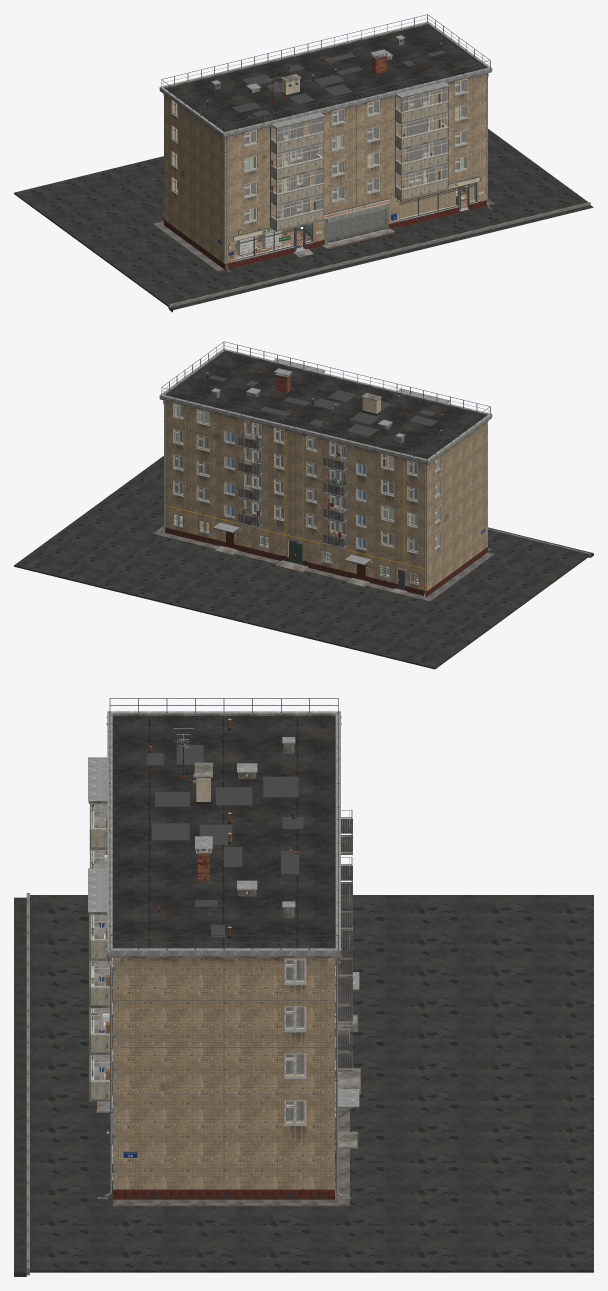
Rendered from pharmacy_house.glb.
The picture shows the model from 3 angles, top to bottom: view 1: azimuth 30°, elevation 25°; view 2: azimuth 150°, elevation 25°; view 3: azimuth 270°, elevation 25°; orthographic projection. The views are drawn at different scales.
Parts seen in each view (by area): view 1: Street_Sidewalk_Courtyard, Wall_Exterior_Front, Slabs_Floors_Roof, Wall_Exterior_Left, Roof_Curb_Chimneys_Vents, Store_Shutter_Entrance_Sign, Roof_Railing, Roof_Repairs_Debris, Loggia_S1_F5_Structure, Loggia_S2_F5_Structure, Salon_Exterior_Curtains_Sign, Loggia_S1_F4_Structure (+32 smaller); view 2: Street_Sidewalk_Courtyard, Wall_Exterior_Back, Slabs_Floors_Roof, Wall_Exterior_Left, Roof_Curb_Chimneys_Vents, Facade_Back_Decals, Roof_Railing, Roof_Repairs_Debris, Foundation, Windows_Back_F5_Frames, Windows_Back_F3_Frames, Windows_Back_F2_Frames (+19 smaller); view 3: Street_Sidewalk_Courtyard, Wall_Exterior_Right, Slabs_Floors_Roof, Roof_Curb_Chimneys_Vents, Roof_Repairs_Debris, Facade_Right_Decals, Foundation, Roof_Railing, Wall_Exterior_Back, Wall_Exterior_Front, Loggia_S1_F5_Structure, Loggia_S2_F5_Structure (+6 smaller).
Part boxes in pixels (left/top/right/bottom): Street_Sidewalk_Courtyard: left=14, top=129, right=593, bottom=312; Wall_Exterior_Front: left=222, top=74, right=487, bottom=269; Slabs_Floors_Roof: left=159, top=24, right=491, bottom=137; Wall_Exterior_Left: left=166, top=96, right=222, bottom=267; Roof_Curb_Chimneys_Vents: left=159, top=21, right=492, bottom=136; Store_Shutter_Entrance_Sign: left=316, top=198, right=396, bottom=249; Roof_Railing: left=161, top=14, right=490, bottom=132; Roof_Repairs_Debris: left=232, top=50, right=445, bottom=117; Loggia_S1_F5_Structure: left=270, top=112, right=324, bottom=154; Loggia_S2_F5_Structure: left=395, top=82, right=449, bottom=124; Salon_Exterior_Curtains_Sign: left=397, top=176, right=483, bottom=218; Loggia_S1_F4_Structure: left=270, top=143, right=323, bottom=180; Street_Sidewalk_Courtyard: left=14, top=456, right=593, bottom=669; Wall_Exterior_Back: left=164, top=400, right=428, bottom=596; Slabs_Floors_Roof: left=159, top=351, right=491, bottom=464; Wall_Exterior_Left: left=429, top=423, right=485, bottom=594; Roof_Curb_Chimneys_Vents: left=159, top=348, right=492, bottom=463; Facade_Back_Decals: left=165, top=401, right=426, bottom=596; Roof_Railing: left=161, top=341, right=490, bottom=460; Roof_Repairs_Debris: left=209, top=370, right=443, bottom=436; Foundation: left=153, top=526, right=494, bottom=601; Windows_Back_F5_Frames: left=172, top=403, right=417, bottom=477; Windows_Back_F3_Frames: left=172, top=455, right=418, bottom=528; Windows_Back_F2_Frames: left=172, top=480, right=417, bottom=554; Street_Sidewalk_Courtyard: left=14, top=893, right=593, bottom=1276; Wall_Exterior_Right: left=120, top=958, right=327, bottom=1199; Slabs_Floors_Roof: left=107, top=716, right=340, bottom=957; Roof_Curb_Chimneys_Vents: left=107, top=711, right=340, bottom=955; Roof_Repairs_Debris: left=147, top=745, right=303, bottom=937; Facade_Right_Decals: left=121, top=958, right=327, bottom=1199; Foundation: left=113, top=1003, right=349, bottom=1206; Roof_Railing: left=109, top=698, right=339, bottom=949; Wall_Exterior_Back: left=327, top=958, right=334, bottom=1199; Wall_Exterior_Front: left=113, top=958, right=120, bottom=1199; Loggia_S1_F5_Structure: left=88, top=757, right=107, bottom=849; Loggia_S2_F5_Structure: left=88, top=868, right=111, bottom=960.
Size of what is drawn, in the model's own units: 48 by 18.6 by 31.36.
Materials: 81 (48 with a texture image).
